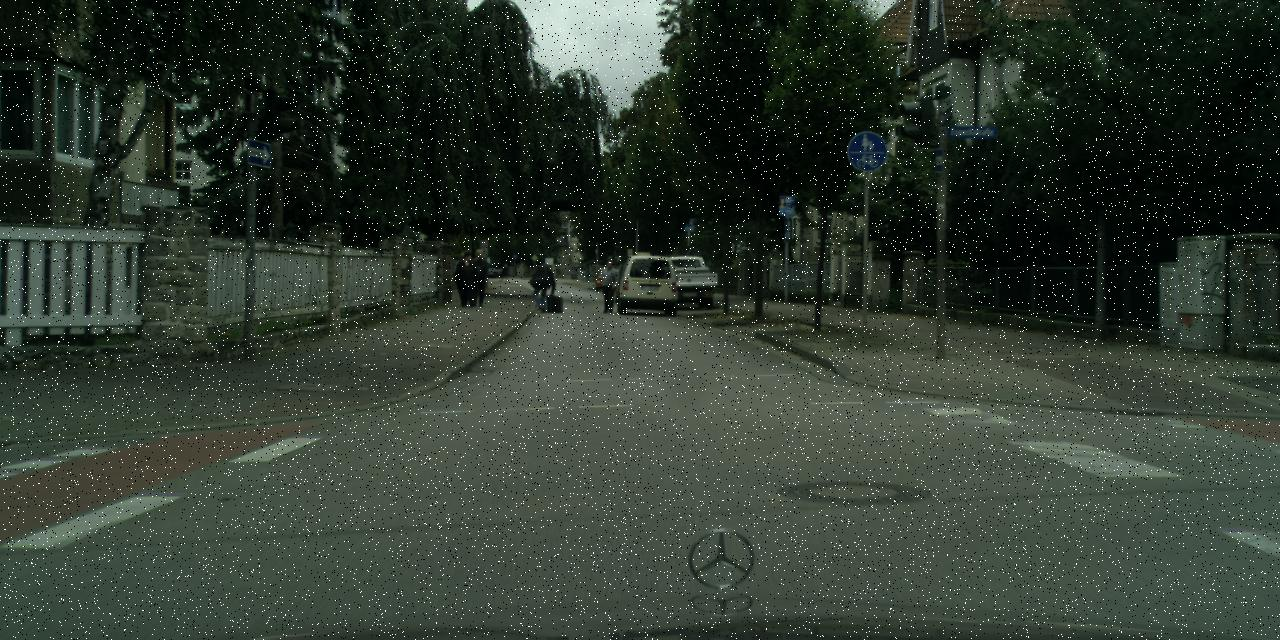ped: (466, 248, 490, 306), (456, 252, 479, 308), (598, 260, 620, 312), (531, 260, 552, 311), (500, 263, 508, 283)
